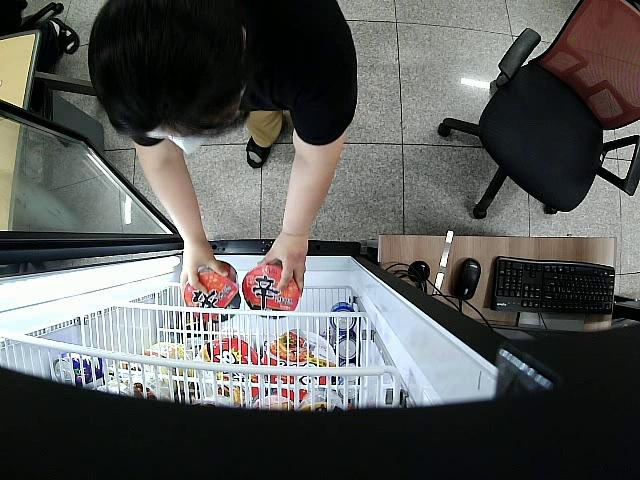00_hand: (259, 235, 309, 295), (180, 243, 228, 297)
01_shinRamen_L: (184, 262, 240, 323), (242, 261, 299, 320)
